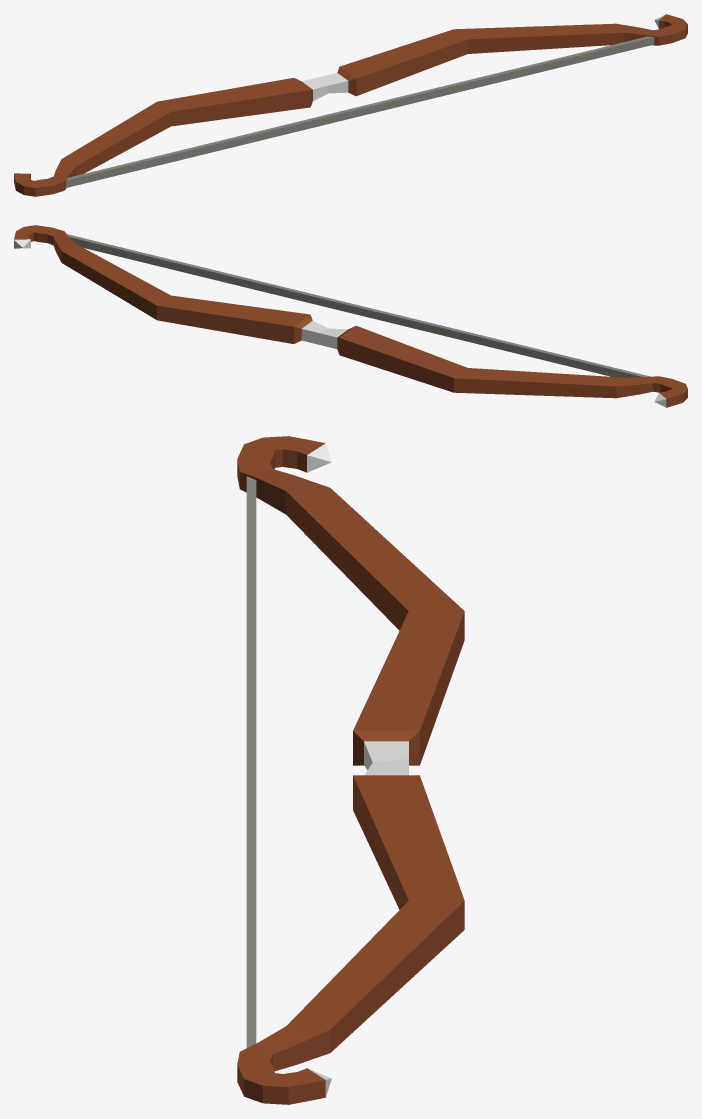
The model's file is Bow.fbx.
The picture shows the model from 3 angles, top to bottom: view 1: azimuth 30°, elevation 25°; view 2: azimuth 150°, elevation 25°; view 3: azimuth 270°, elevation 25°; orthographic projection. The views are drawn at different scales.
Visible parts, largest first — view 1: Cube, Cube.001; view 2: Cube, Cube.001; view 3: Cube, Cube.001.
Part boxes in pixels (box(x1,y1,x2,y2)): Cube: box(14, 14, 687, 196); Cube.001: box(66, 36, 654, 187); Cube: box(14, 225, 687, 407); Cube.001: box(67, 234, 650, 377); Cube: box(237, 436, 464, 1104); Cube.001: box(246, 476, 256, 1047).
Size of the model in its own units: 1580 by 39.56 by 233.
